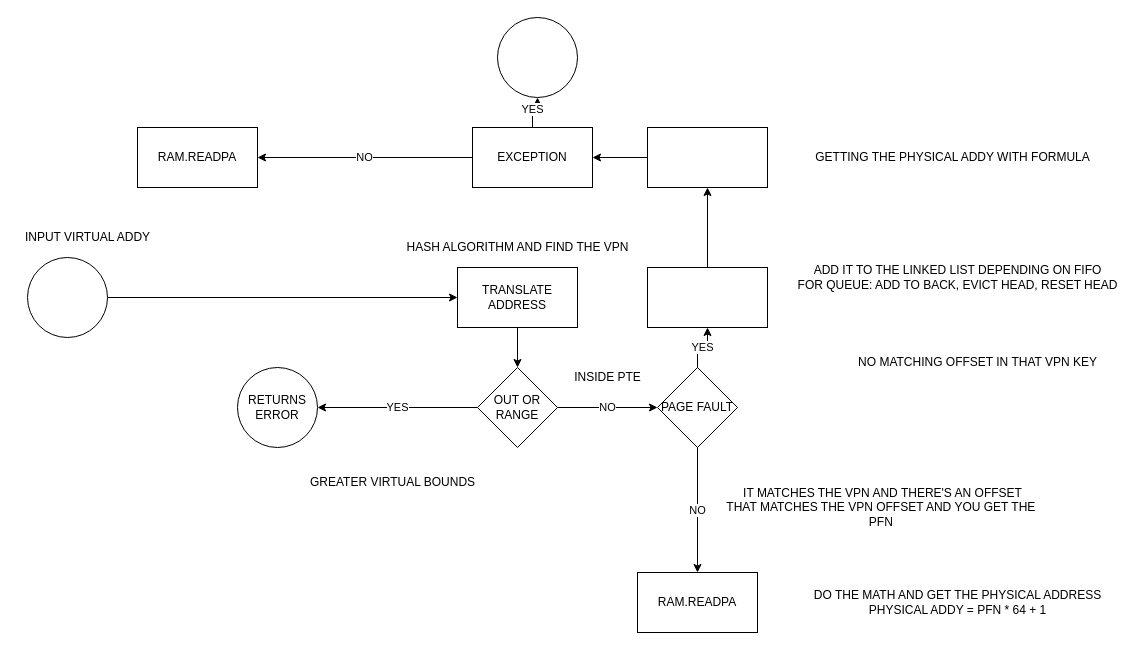
Some shapes in this 1144 by 650 pixel diagram are drawn without their labels. Each missing label, with the box of its shape:
ERROR: (496, 16, 578, 98)
MISS: (646, 266, 768, 328)
START: (26, 256, 108, 338)
TRANSLATE ADDY: (646, 126, 768, 188)
